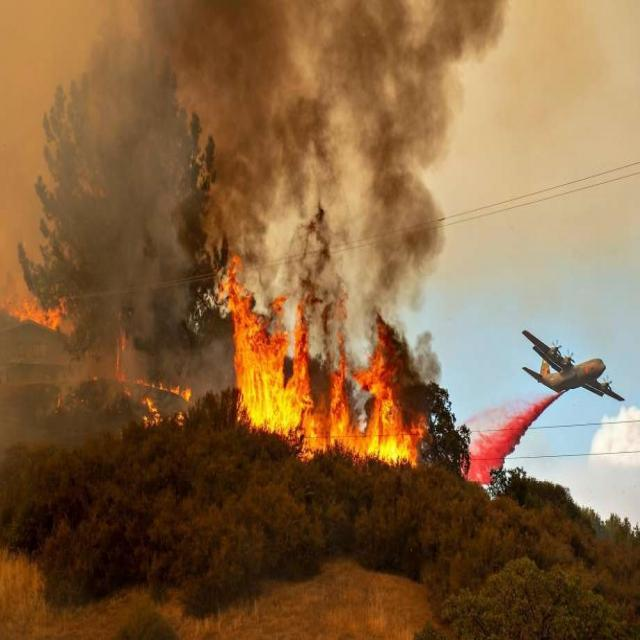Fire: (218, 278, 424, 470), (113, 356, 190, 434), (7, 292, 73, 332)
